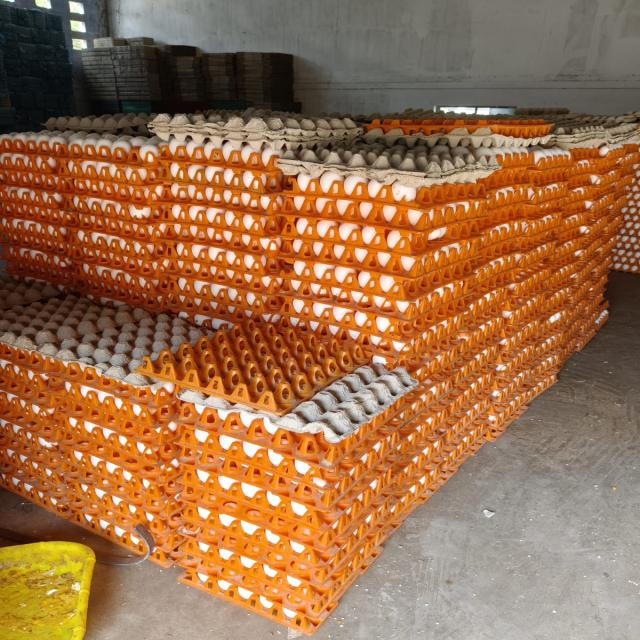egg_tray: (180, 402, 459, 626), (179, 380, 472, 510), (44, 358, 182, 565), (179, 503, 399, 632), (180, 400, 412, 522), (178, 512, 394, 634), (283, 174, 481, 302), (283, 173, 486, 277), (138, 323, 366, 414), (179, 520, 386, 619), (278, 218, 475, 320), (56, 408, 181, 563), (276, 296, 503, 379), (59, 417, 183, 565), (0, 296, 203, 384), (161, 269, 402, 337), (59, 419, 181, 552), (181, 404, 386, 483), (283, 217, 470, 300), (158, 203, 282, 325), (283, 261, 471, 340), (278, 305, 495, 369), (65, 451, 183, 566), (283, 280, 467, 350), (282, 194, 486, 256), (280, 216, 478, 278), (45, 359, 179, 450), (493, 289, 582, 426), (282, 172, 485, 232), (157, 224, 280, 320), (0, 345, 69, 516), (161, 204, 282, 300), (278, 248, 471, 308), (0, 295, 138, 378), (0, 348, 68, 514), (275, 364, 417, 443), (277, 263, 466, 322), (51, 364, 179, 451), (195, 420, 354, 490), (282, 300, 464, 361), (53, 381, 177, 470), (0, 134, 73, 285), (0, 132, 158, 201), (71, 196, 166, 310), (157, 242, 282, 326), (161, 204, 281, 290), (408, 365, 495, 479), (503, 239, 607, 334), (154, 140, 287, 214), (278, 140, 498, 184), (398, 286, 505, 370), (461, 218, 537, 334), (282, 213, 479, 256), (85, 314, 204, 384), (149, 109, 362, 148), (50, 134, 158, 210), (396, 309, 503, 383), (492, 310, 577, 403), (287, 171, 483, 211), (71, 230, 161, 312), (69, 201, 164, 278), (396, 308, 501, 377), (406, 310, 500, 386), (159, 270, 282, 328), (70, 504, 183, 567), (69, 213, 165, 287), (495, 311, 574, 400), (0, 416, 69, 516), (495, 304, 582, 383), (159, 140, 286, 194), (0, 345, 60, 459), (59, 134, 159, 202), (158, 276, 281, 330), (61, 138, 158, 206), (158, 203, 282, 256), (470, 243, 553, 321), (163, 228, 282, 282), (157, 278, 282, 329), (0, 192, 75, 276), (59, 142, 158, 199), (477, 240, 574, 298), (92, 314, 204, 364), (204, 109, 362, 144), (51, 132, 159, 183), (101, 316, 201, 371), (433, 144, 574, 183), (505, 261, 577, 337), (0, 187, 76, 258), (471, 207, 560, 267), (0, 438, 68, 516), (251, 316, 371, 360), (498, 307, 579, 372), (487, 366, 559, 439), (0, 344, 58, 434), (0, 217, 73, 285), (69, 229, 165, 280), (246, 492, 335, 547), (526, 153, 621, 204), (485, 372, 556, 440), (184, 470, 259, 534), (438, 363, 496, 441), (159, 138, 282, 174), (74, 264, 166, 312), (149, 182, 282, 215), (69, 196, 164, 242), (473, 146, 582, 186), (501, 268, 574, 327), (492, 352, 565, 408), (558, 180, 625, 240), (502, 270, 574, 325), (430, 142, 557, 173), (363, 127, 550, 148), (469, 146, 575, 183), (363, 118, 552, 138), (0, 133, 66, 190), (480, 154, 532, 226), (569, 192, 623, 260), (439, 334, 497, 397), (558, 188, 625, 241), (572, 145, 637, 198), (0, 211, 74, 257), (550, 114, 637, 152), (0, 246, 75, 290), (473, 146, 580, 176), (479, 180, 541, 230), (0, 189, 76, 228), (389, 265, 465, 303), (549, 120, 637, 152), (481, 154, 535, 206), (457, 283, 508, 338), (612, 170, 639, 272), (0, 359, 52, 410), (522, 152, 590, 191), (468, 249, 526, 294), (465, 146, 556, 174), (574, 157, 632, 200), (573, 284, 608, 351), (0, 152, 59, 191), (580, 215, 619, 274), (43, 113, 152, 134), (518, 182, 582, 217), (572, 253, 610, 311), (579, 207, 621, 259), (0, 274, 59, 311), (573, 246, 610, 305), (572, 249, 610, 306), (568, 149, 620, 188), (556, 206, 609, 244), (0, 130, 74, 157), (516, 239, 580, 269), (571, 144, 637, 172), (569, 167, 627, 198), (580, 187, 626, 226), (572, 300, 607, 351), (551, 127, 631, 149), (325, 434, 366, 476), (0, 132, 66, 158), (362, 108, 489, 121), (530, 181, 582, 210), (0, 186, 65, 209), (574, 308, 609, 350), (525, 146, 575, 175), (588, 168, 633, 197), (619, 194, 639, 242), (621, 184, 639, 236), (608, 172, 634, 204), (453, 415, 479, 446), (179, 390, 223, 407), (612, 247, 639, 272), (618, 143, 639, 175), (515, 108, 567, 120), (360, 432, 383, 458), (415, 385, 442, 405), (221, 269, 256, 284), (272, 456, 295, 477), (535, 216, 557, 236), (382, 433, 406, 450), (0, 420, 27, 435), (435, 285, 459, 298), (522, 320, 544, 333), (630, 164, 639, 194), (530, 245, 548, 259), (235, 278, 255, 290), (252, 456, 270, 469), (424, 227, 447, 237), (272, 482, 290, 494), (490, 114, 514, 123), (374, 350, 393, 361), (228, 466, 254, 474), (32, 272, 54, 281), (310, 520, 328, 531), (543, 188, 559, 200), (123, 225, 139, 236), (513, 206, 529, 217), (332, 283, 341, 302), (437, 286, 454, 296), (391, 420, 405, 432), (335, 268, 353, 277), (253, 277, 269, 287), (119, 502, 135, 512), (293, 176, 303, 192), (434, 188, 446, 201), (424, 486, 437, 498), (498, 389, 509, 401), (483, 172, 497, 181), (295, 489, 305, 501), (201, 457, 214, 466), (215, 445, 228, 454), (538, 290, 549, 300), (224, 292, 235, 302), (555, 290, 567, 299), (221, 514, 233, 523), (373, 355, 390, 361), (323, 510, 334, 519), (298, 490, 307, 501), (310, 265, 324, 272), (314, 281, 327, 288), (79, 483, 88, 493), (547, 174, 558, 182), (421, 193, 433, 200), (239, 495, 253, 501), (450, 363, 459, 372), (95, 488, 104, 497), (189, 115, 198, 124), (381, 474, 389, 484), (4, 429, 14, 437), (78, 282, 86, 292), (108, 440, 118, 448), (277, 482, 285, 492), (198, 507, 208, 515), (419, 461, 429, 469), (183, 404, 191, 414), (384, 212, 392, 222), (435, 303, 442, 314), (190, 226, 201, 233), (541, 308, 549, 317), (546, 268, 554, 277), (261, 277, 269, 286), (134, 309, 146, 315), (290, 486, 299, 494), (447, 364, 456, 372), (460, 406, 468, 415), (198, 508, 207, 516), (354, 452, 362, 460), (535, 381, 543, 389), (421, 381, 429, 389), (353, 485, 359, 495), (377, 344, 382, 356), (191, 440, 198, 448), (377, 323, 385, 330), (303, 286, 310, 294), (325, 533, 333, 540), (558, 154, 565, 162), (100, 191, 109, 197), (487, 173, 496, 179), (28, 197, 37, 203), (428, 304, 433, 314), (70, 144, 75, 154), (620, 116, 630, 121), (10, 406, 17, 413), (113, 496, 121, 502), (137, 380, 148, 384), (135, 309, 146, 313), (100, 433, 111, 437), (188, 478, 195, 484), (500, 170, 506, 177), (452, 322, 459, 328), (214, 429, 221, 435), (364, 208, 370, 215), (252, 542, 259, 548), (599, 188, 607, 193), (299, 527, 304, 535), (495, 393, 500, 401), (43, 278, 52, 282), (376, 318, 385, 322), (99, 433, 108, 437), (458, 203, 465, 208), (539, 324, 544, 331), (462, 223, 467, 229), (112, 229, 117, 235), (7, 188, 14, 192), (487, 173, 494, 177), (410, 407, 414, 414), (269, 248, 276, 252), (385, 360, 392, 364), (94, 427, 103, 430), (102, 139, 111, 142), (204, 534, 209, 539), (407, 327, 412, 332), (478, 214, 483, 219), (398, 307, 403, 312), (415, 211, 423, 214), (93, 352, 97, 358), (383, 412, 389, 416), (430, 394, 433, 402), (188, 522, 194, 526), (343, 518, 346, 526), (189, 416, 193, 422), (308, 458, 314, 462), (187, 520, 193, 524), (137, 377, 143, 381), (583, 272, 588, 276), (519, 256, 524, 260), (139, 314, 143, 319), (501, 171, 505, 176), (415, 318, 420, 322), (198, 474, 202, 479), (131, 378, 135, 383), (127, 362, 132, 366), (311, 251, 316, 255), (327, 501, 331, 506), (214, 322, 219, 326), (379, 276, 385, 279), (263, 283, 266, 289), (132, 211, 138, 214), (113, 440, 116, 446), (575, 176, 579, 180), (503, 340, 507, 344), (499, 157, 503, 161), (598, 294, 602, 298), (138, 232, 146, 234), (526, 392, 530, 396), (438, 480, 442, 484), (331, 526, 335, 530), (363, 215, 367, 219), (269, 417, 274, 420), (236, 512, 239, 517), (285, 479, 290, 482), (300, 304, 303, 309), (399, 301, 404, 304), (607, 261, 610, 266), (190, 478, 195, 481), (265, 474, 270, 477), (346, 273, 351, 276), (417, 141, 422, 144), (91, 208, 94, 213), (85, 390, 90, 393), (262, 543, 265, 548), (292, 305, 294, 311), (386, 256, 389, 260), (599, 290, 601, 296), (403, 322, 406, 326), (522, 280, 525, 284), (509, 316, 513, 319), (354, 488, 357, 492), (204, 418, 207, 422), (423, 336, 427, 339), (489, 173, 493, 176), (119, 224, 122, 228), (539, 323, 543, 326), (382, 359, 388, 361), (353, 450, 355, 456), (275, 144, 281, 146), (310, 303, 321, 304), (18, 252, 23, 254), (294, 286, 299, 288), (54, 194, 59, 196), (10, 265, 12, 270), (407, 302, 409, 307), (92, 148, 97, 150), (427, 417, 429, 422), (45, 170, 50, 172), (288, 614, 293, 616), (462, 185, 467, 187), (455, 298, 460, 300), (87, 518, 90, 521), (203, 510, 206, 513), (374, 274, 377, 277), (634, 196, 637, 199), (11, 207, 14, 210), (387, 256, 390, 259), (603, 116, 606, 119), (425, 382, 428, 385), (49, 135, 52, 138), (320, 483, 323, 486), (37, 163, 40, 166), (187, 507, 190, 510), (247, 487, 250, 490), (539, 196, 542, 199), (345, 519, 347, 523), (3, 346, 5, 350), (325, 270, 327, 274), (191, 474, 193, 478), (99, 366, 103, 368), (122, 382, 126, 384), (90, 502, 94, 504), (102, 479, 106, 481), (42, 136, 46, 138), (587, 116, 591, 118), (407, 304, 409, 308), (434, 297, 436, 301), (302, 478, 304, 482), (228, 430, 232, 432), (287, 146, 291, 148), (132, 462, 136, 464), (360, 486, 363, 488), (223, 476, 226, 478), (459, 343, 461, 346), (497, 312, 499, 315), (461, 222, 463, 225), (522, 264, 525, 266), (127, 133, 133, 134), (435, 146, 438, 148), (572, 315, 574, 318), (578, 252, 581, 254), (610, 230, 612, 233), (339, 176, 341, 179), (517, 282, 520, 284), (181, 300, 184, 302), (493, 424, 495, 427), (499, 272, 501, 275), (501, 158, 503, 161), (118, 307, 121, 309), (92, 338, 94, 341), (49, 366, 52, 368), (292, 494, 294, 497), (254, 479, 257, 481), (393, 408, 395, 411), (30, 165, 33, 167), (24, 159, 27, 161), (266, 607, 268, 610), (203, 518, 205, 521), (274, 499, 277, 501), (414, 345, 417, 347), (399, 302, 402, 304), (222, 324, 224, 327), (521, 394, 524, 396), (307, 628, 310, 630), (242, 596, 244, 599), (532, 228, 535, 230), (530, 225, 533, 227), (551, 176, 554, 178), (579, 203, 582, 205), (574, 314, 577, 316), (452, 147, 457, 148), (193, 254, 194, 259), (174, 437, 175, 442), (33, 254, 35, 256), (339, 531, 340, 535), (511, 402, 513, 404), (188, 522, 190, 524), (355, 293, 357, 295), (505, 314, 507, 316), (532, 154, 534, 156), (619, 247, 623, 248), (338, 467, 340, 469), (372, 464, 374, 466), (153, 210, 154, 214), (119, 307, 121, 309), (22, 460, 24, 462), (15, 431, 17, 433), (237, 451, 239, 453), (389, 367, 393, 368), (292, 532, 294, 534), (279, 553, 281, 555), (156, 118, 158, 120), (241, 518, 244, 519), (571, 320, 574, 321), (299, 176, 300, 179), (28, 194, 31, 195), (394, 283, 397, 284), (289, 445, 290, 448), (181, 560, 182, 563), (186, 516, 187, 519), (168, 180, 171, 181), (245, 508, 246, 510), (434, 298, 435, 300), (587, 270, 588, 272), (51, 266, 52, 268), (541, 265, 543, 266), (339, 193, 341, 194), (622, 116, 624, 117), (110, 147, 112, 148), (98, 141, 99, 143), (329, 504, 330, 506), (247, 476, 249, 477), (98, 138, 99, 140), (134, 284, 135, 286), (121, 209, 122, 211), (40, 136, 42, 137), (255, 477, 256, 479), (349, 453, 350, 455), (389, 409, 391, 410), (565, 152, 567, 153), (403, 283, 405, 284), (258, 611, 260, 612), (356, 573, 357, 575), (382, 327, 384, 328), (388, 470, 390, 471), (275, 433, 276, 435), (409, 130, 411, 131), (456, 408, 457, 409), (529, 156, 530, 157), (349, 176, 350, 177), (143, 312, 144, 313), (558, 327, 559, 328), (209, 505, 210, 506), (227, 420, 228, 421), (138, 376, 139, 377), (334, 249, 335, 250), (107, 481, 108, 482), (482, 178, 483, 179), (427, 402, 428, 403), (9, 167, 10, 168), (358, 296, 359, 297), (542, 387, 543, 388), (441, 305, 442, 306), (287, 434, 288, 435), (187, 492, 188, 492), (443, 418, 443, 418), (290, 551, 290, 553), (232, 516, 233, 516), (223, 516, 223, 519), (452, 286, 452, 286), (511, 418, 512, 418), (511, 390, 512, 390), (527, 383, 528, 383), (507, 308, 508, 308), (543, 265, 543, 266), (432, 314, 433, 314), (581, 214, 583, 214), (387, 510, 388, 510), (323, 175, 323, 177), (471, 281, 472, 281), (604, 252, 605, 252), (347, 294, 348, 294), (383, 194, 383, 195), (431, 314, 432, 314), (403, 304, 403, 306), (370, 278, 370, 279), (236, 303, 237, 303), (103, 141, 106, 141), (484, 179, 485, 179), (290, 496, 290, 497), (354, 494, 354, 494), (383, 455, 383, 457), (325, 447, 325, 448), (186, 432, 186, 434), (136, 208, 137, 208), (85, 141, 85, 141), (196, 250, 198, 250), (505, 203, 506, 203), (123, 208, 124, 208), (56, 378, 57, 378), (359, 118, 359, 119), (85, 134, 85, 136), (85, 211, 85, 212), (10, 198, 10, 199), (321, 492, 321, 492), (318, 490, 319, 490), (187, 456, 188, 456), (198, 454, 199, 454), (216, 423, 217, 423), (266, 607, 268, 607), (334, 556, 334, 556), (194, 518, 194, 519), (394, 314, 394, 314), (383, 312, 383, 312), (274, 292, 277, 292), (481, 349, 481, 350), (443, 376, 443, 377), (214, 294, 214, 294), (198, 292, 199, 292), (494, 221, 494, 221), (243, 194, 246, 194), (486, 145, 491, 145), (534, 143, 537, 143), (530, 143, 530, 143), (301, 203, 301, 205), (285, 620, 285, 622), (307, 503, 308, 503), (212, 452, 212, 452), (292, 554, 292, 555), (281, 532, 281, 532)
